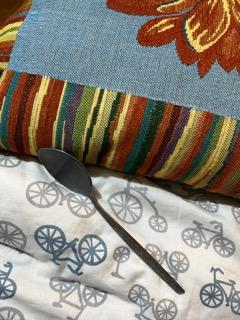spoon: (36, 145, 189, 299)
